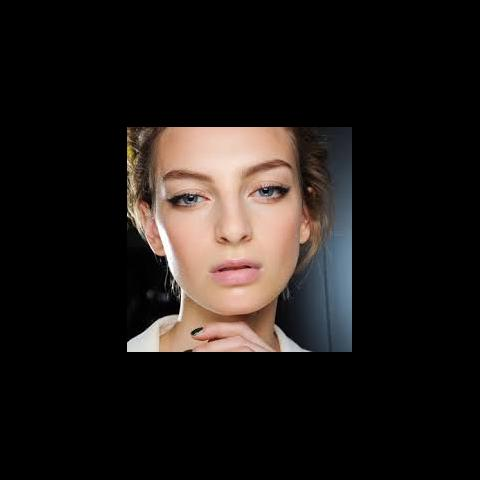opened: (152, 162, 298, 216)
